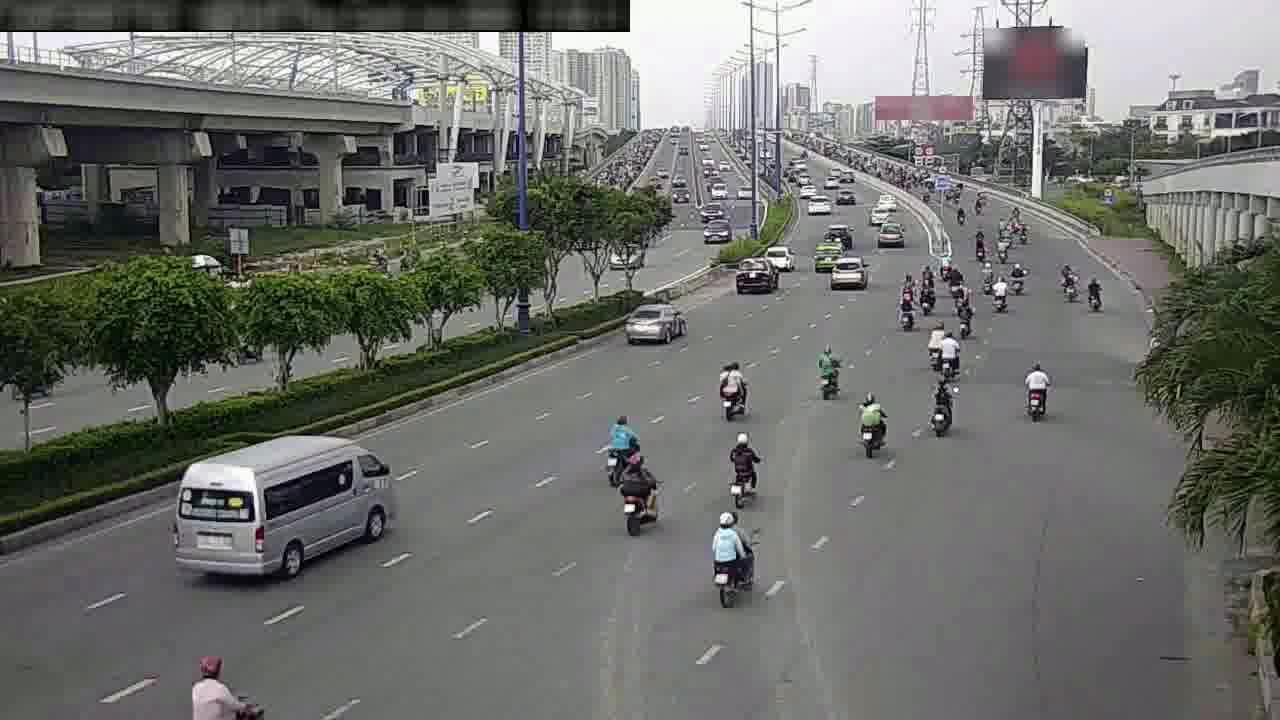car: (622, 301, 688, 346), (729, 255, 784, 295), (829, 254, 872, 292), (766, 242, 800, 271), (809, 240, 839, 268), (828, 222, 858, 249), (877, 220, 905, 247)
motorbike: (703, 515, 762, 609), (183, 663, 265, 720), (614, 456, 668, 534), (722, 439, 763, 507), (594, 418, 635, 486), (1014, 361, 1054, 422), (923, 372, 962, 434), (853, 392, 890, 455), (714, 362, 751, 422), (807, 344, 844, 401), (937, 332, 966, 374), (921, 325, 949, 365), (893, 292, 918, 331), (953, 296, 976, 336), (1083, 276, 1105, 312), (990, 277, 1011, 312), (1057, 264, 1077, 299), (916, 276, 936, 310), (945, 267, 965, 301), (1007, 260, 1026, 289), (971, 230, 989, 260), (936, 249, 955, 277), (976, 260, 992, 290), (994, 232, 1008, 258), (1014, 219, 1029, 241)
passenger_car: (181, 438, 407, 570)
